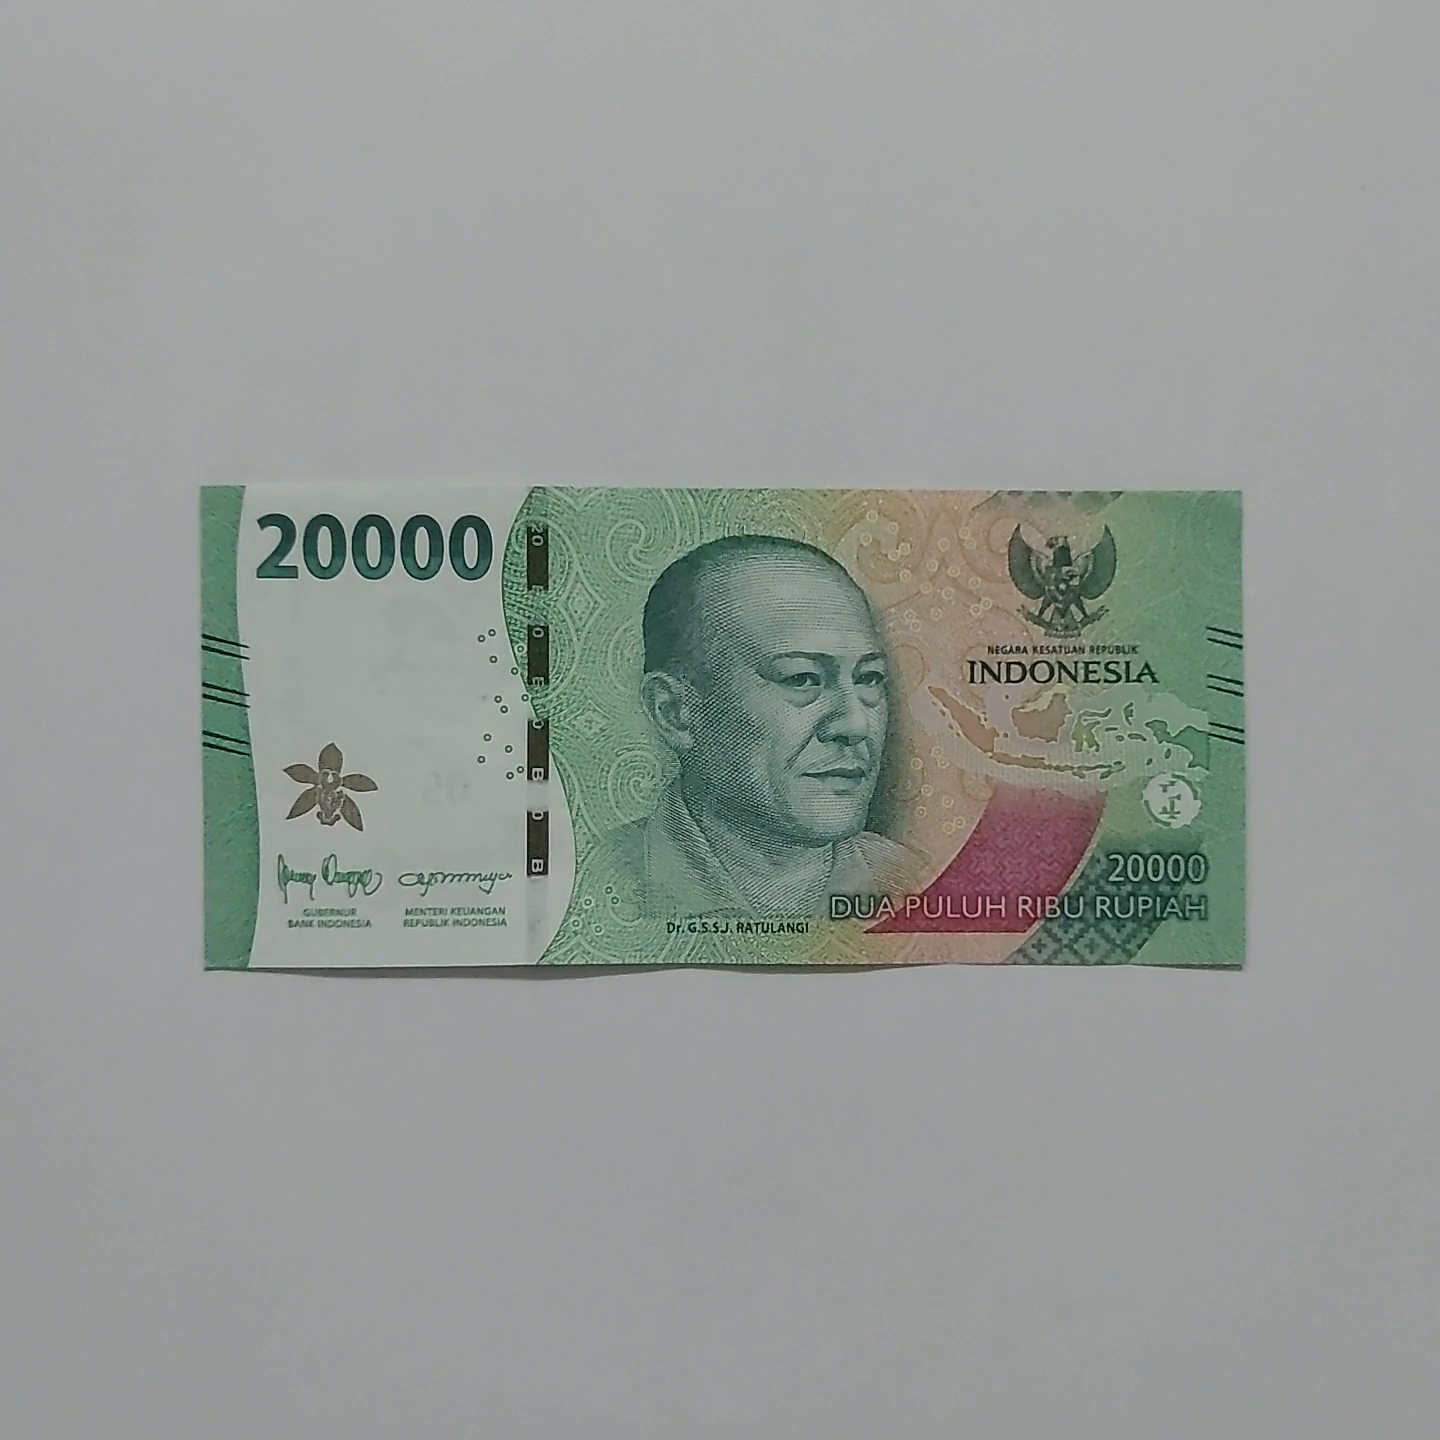20k: (125, 439, 1287, 969)
